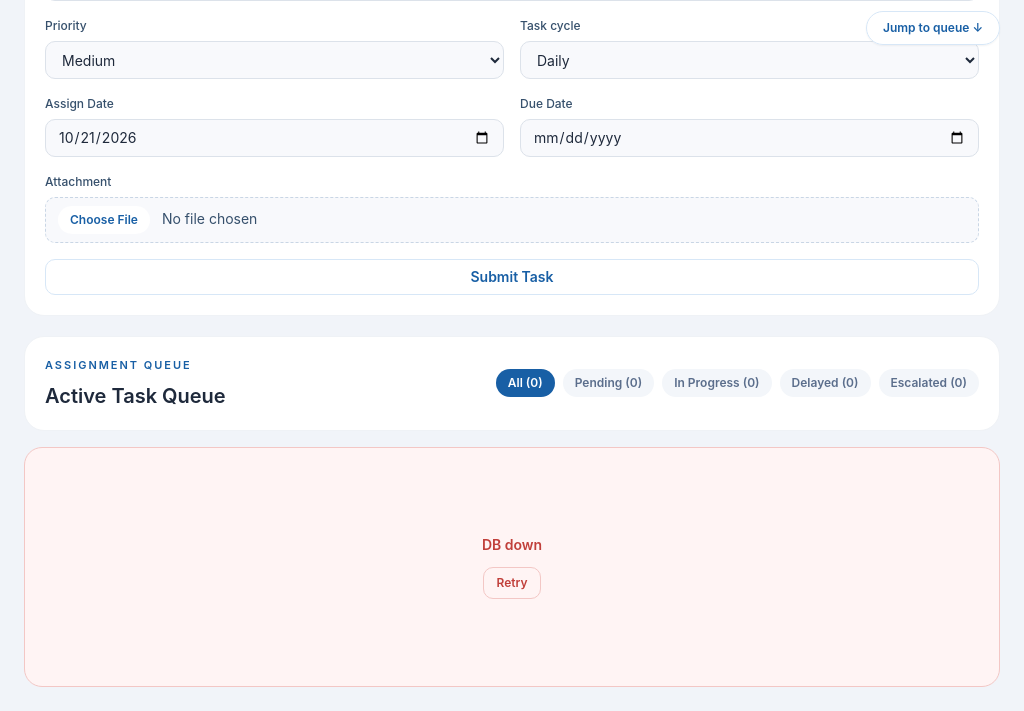
Assignment Queue › shows an error with Retry instead of a misleading empty queue
(page scrolled)
Expected: the message shows "DB down", x1=482 y1=536 x2=542 y2=552
Click the button "Retry" at point(512, 582), box x1=484 y1=566 x2=540 y2=598
(page scrolled)
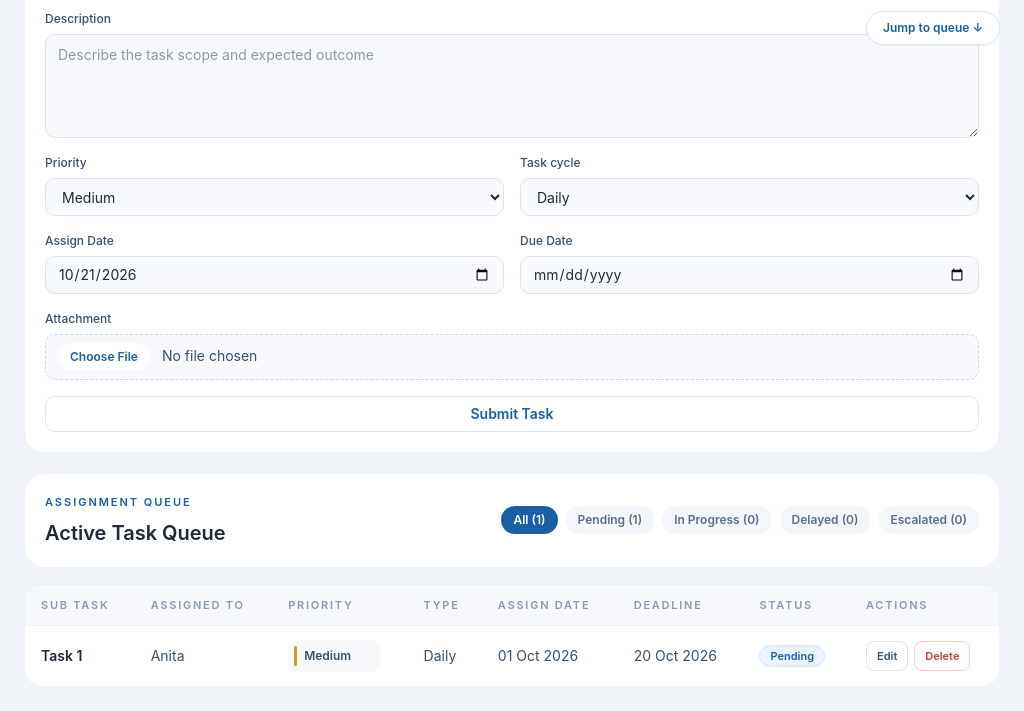
Expected: the text "Task 1" is shown, x1=41 y1=647 x2=82 y2=664
